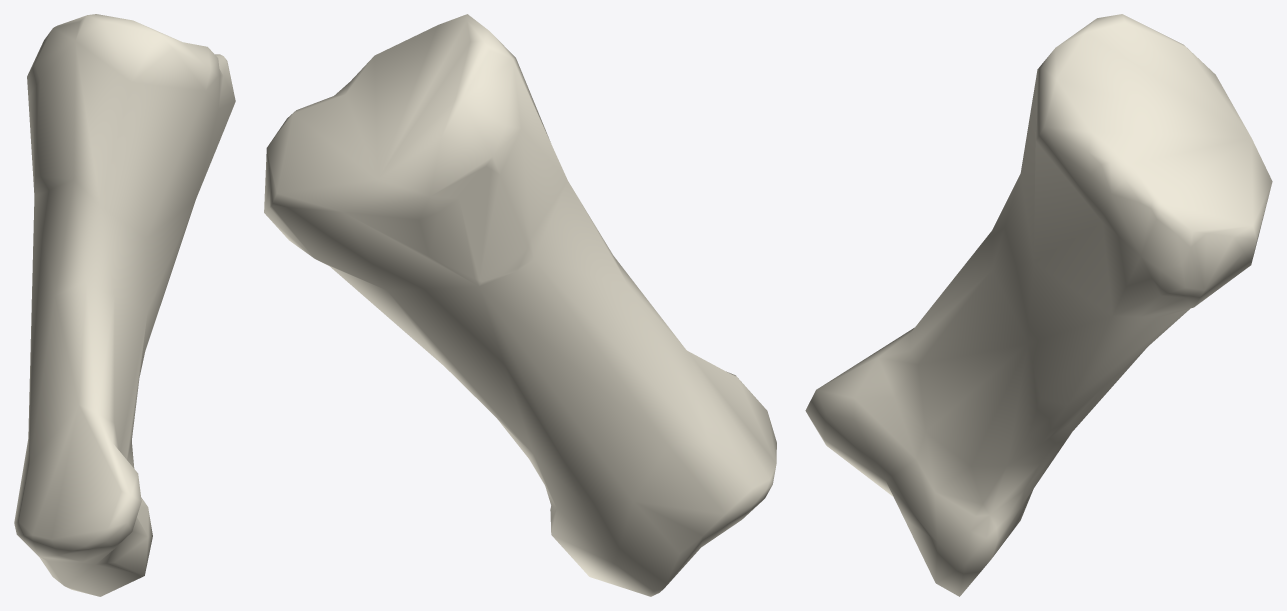
3 renders of one model, left to right at view 1: azimuth 30°, elevation 25°; view 2: azimuth 150°, elevation 25°; view 3: azimuth 270°, elevation 25°, orthographic. The views are drawn at different scales.
Parts seen in each view (by area): view 1: ZA_e6c7801fd264ef8a; view 2: ZA_e6c7801fd264ef8a; view 3: ZA_e6c7801fd264ef8a.
Part boxes in pixels (x1,y1,x2,y2): ZA_e6c7801fd264ef8a: (14,14,235,596); ZA_e6c7801fd264ef8a: (264,14,776,596); ZA_e6c7801fd264ef8a: (805,14,1272,596).
Bounding box in the file's own units: 0.0209 × 0.0325 × 0.023.
